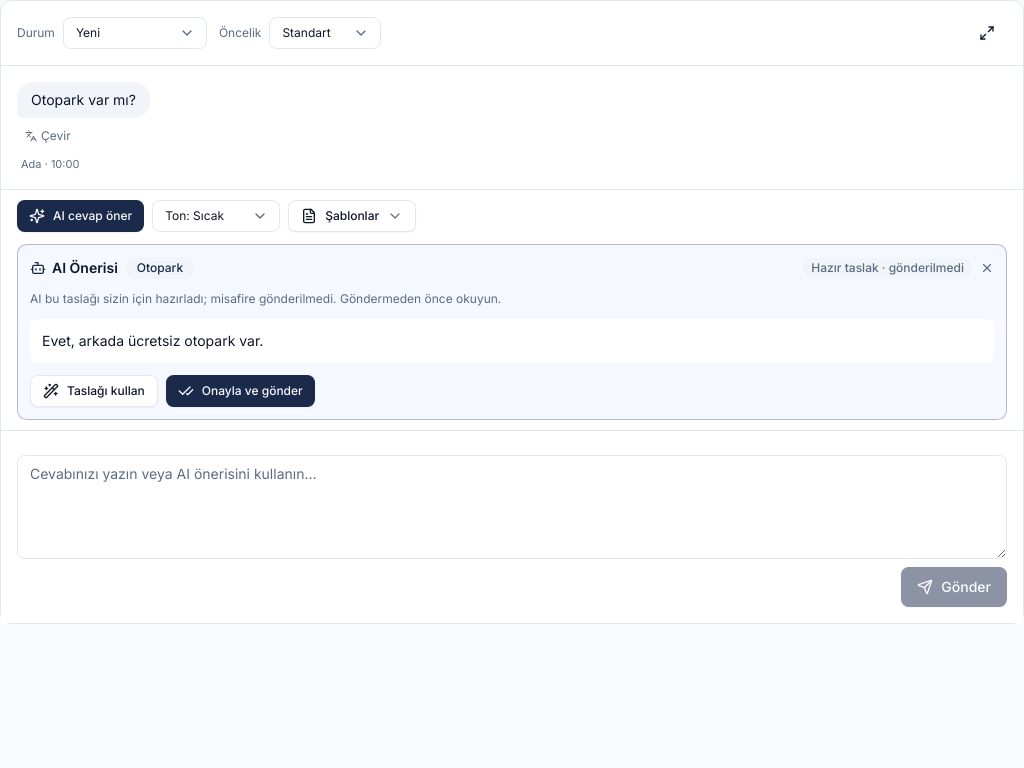
Test: konuşma ekranı — öneri onayı işlem kimliğini taşır (S1) › 🚨 onay 'az önce gönderildi' ile reddedilirse konuşma YENİLENİR ve sebep görünür; öneri silinmez (yenileme güncel durumu getirir)
Step 1. Click the button "Onayla ve gönder" → click(240, 390), box [166,374,315,406]
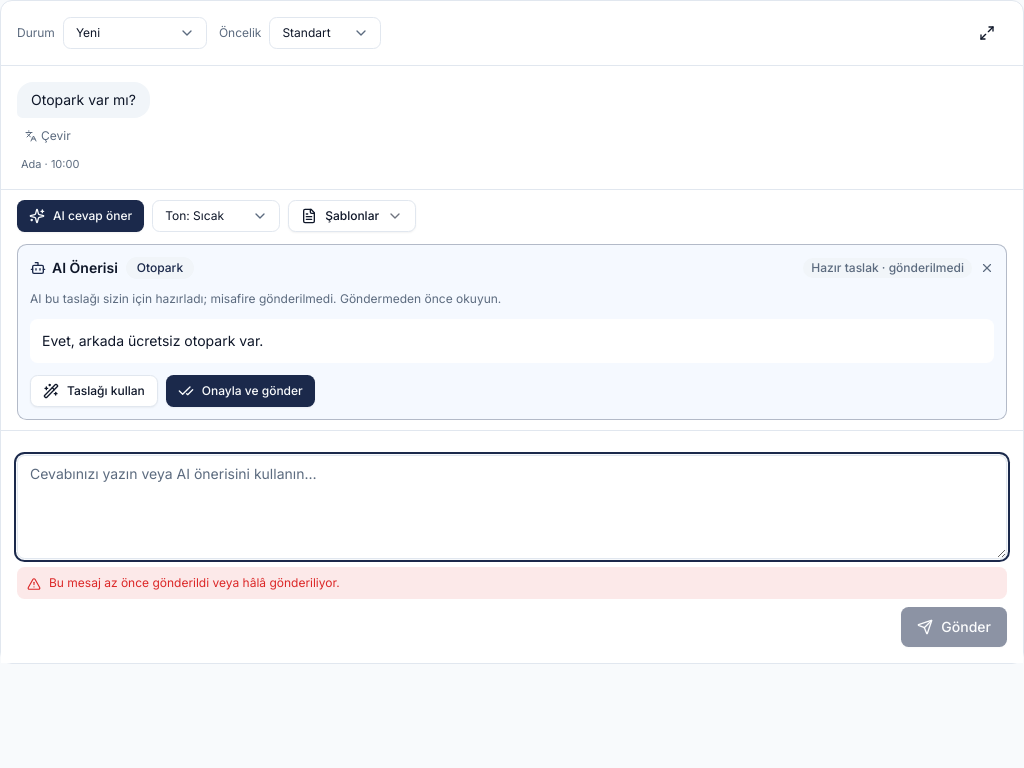
Check: the text "Bu mesaj az önce gönderildi veya hâlâ gönderiliyor." is shown, box [17,566,1007,598]
